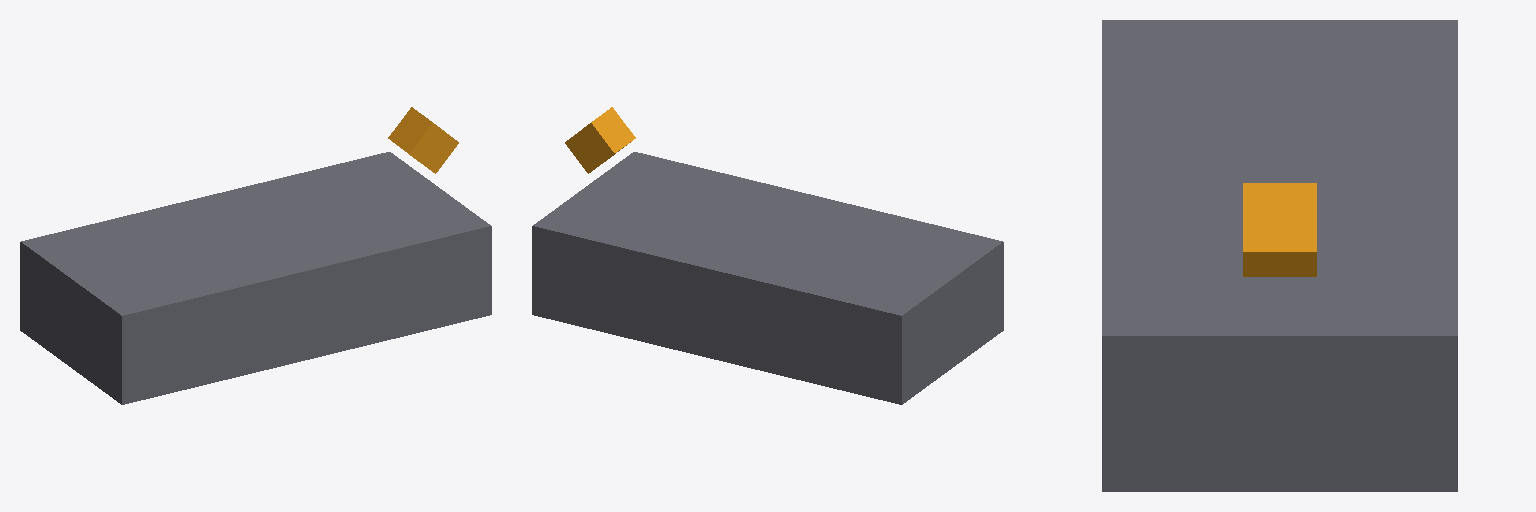
robot.urdf — go2:
<?xml version="1.0"?>
<!--
  Static transforms between the Go2 body, its front camera, and the Mid-360 odom frame.
  Generated from static_transforms.py.

  Mount geometry (measured on the physical rig):
    - base_link -> front_camera: 32.7cm forward, ~4.3cm up.
    - front_camera -> mid360_link: lidar 3.2cm back, 12cm up, pitched 44 deg down.
    - front_camera -> camera_optical: standard ROS optical rotation (x-right, y-down, z-forward).

  FAST-LIO odometry is the Mid-360 IMU ("body") frame, tracked here as mid360_link.
-->
<robot name="go2">

  <link name="go2"/>

  <link name="base_link">
    <visual>
      <!-- Approximate Go2 trunk box (~65 x 31 x 15 cm), centered on base_link. -->
      <origin xyz="0 0 0" rpy="0 0 0"/>
      <geometry>
        <box size="0.65 0.31 0.15"/>
      </geometry>
      <material name="trunk_gray">
        <color rgba="0.470588 0.470588 0.509804 1.0"/>
      </material>
    </visual>
  </link>

  <link name="front_camera"/>

  <link name="mid360_link">
    <visual>
      <!-- Mid-360 body box (65 x 65 x 60 mm), centered on mid360_link. -->
      <origin xyz="0 0 0" rpy="0 0 0"/>
      <geometry>
        <box size="0.065 0.065 0.06"/>
      </geometry>
      <material name="lidar_orange">
        <color rgba="0.901961 0.627451 0.156863 1.0"/>
      </material>
    </visual>
  </link>

  <link name="lidar_frame"/>
  <link name="imu_frame"/>
  <link name="camera_optical"/>

  <joint name="go2_to_base_link" type="fixed">
    <parent link="go2"/>
    <child link="base_link"/>
    <origin xyz="0 0 0" rpy="0 0 0"/>
  </joint>

  <joint name="base_link_to_front_camera" type="fixed">
    <parent link="base_link"/>
    <child link="front_camera"/>
    <origin xyz="0.32715 -0.00003 0.04297" rpy="0 0 0"/>
  </joint>

  <!-- 44 deg pitch down = 0.7679448708775051 rad -->
  <joint name="front_camera_to_mid360_link" type="fixed">
    <parent link="front_camera"/>
    <child link="mid360_link"/>
    <origin xyz="-0.032 0 0.12" rpy="0 0.7679448708775051 0"/>
  </joint>

  <!-- LIDAR_ABOVE_BOX_CENTER = 0.017 (point-cloud origin O above box center) -->
  <joint name="mid360_link_to_lidar_frame" type="fixed">
    <parent link="mid360_link"/>
    <child link="lidar_frame"/>
    <origin xyz="0 0 0.017" rpy="0 0 0"/>
  </joint>

  <!-- IMU_IN_LIDAR = (0.011, 0.02329, -0.04412): IMU position in point-cloud coords. -->
  <joint name="lidar_frame_to_imu_frame" type="fixed">
    <parent link="lidar_frame"/>
    <child link="imu_frame"/>
    <origin xyz="0.011 0.02329 -0.04412" rpy="0 0 0"/>
  </joint>

  <!-- OPTICAL_RPY = (-pi/2, 0, -pi/2) -->
  <joint name="front_camera_to_camera_optical" type="fixed">
    <parent link="front_camera"/>
    <child link="camera_optical"/>
    <origin xyz="0 0 0" rpy="-1.5707963267948966 0 -1.5707963267948966"/>
  </joint>

</robot>

--- Facts derived from the render (not from the file) ---
3 views of the same robot in one strip: view 1: azimuth 30°, elevation 25°; view 2: azimuth 150°, elevation 25°; view 3: azimuth 270°, elevation 25° (orthographic).
Model go2 with 7 links and 6 joints (6 fixed), rooted at go2, posed all joints at 0.
Links seen in each view (by area): view 1: base_link, mid360_link; view 2: base_link, mid360_link; view 3: base_link, mid360_link.
Link boxes in pixels (x1,y1,x2,y2): base_link: [20, 152, 491, 404]; mid360_link: [388, 107, 458, 173]; base_link: [532, 152, 1003, 404]; mid360_link: [565, 107, 635, 173]; base_link: [1102, 20, 1457, 491]; mid360_link: [1243, 183, 1316, 276].
Bounding box of the posed robot: 0.6644 × 0.31 × 0.2821 m (x, y, z).
Geometry: primitives only (box / cylinder / sphere), no mesh files.
